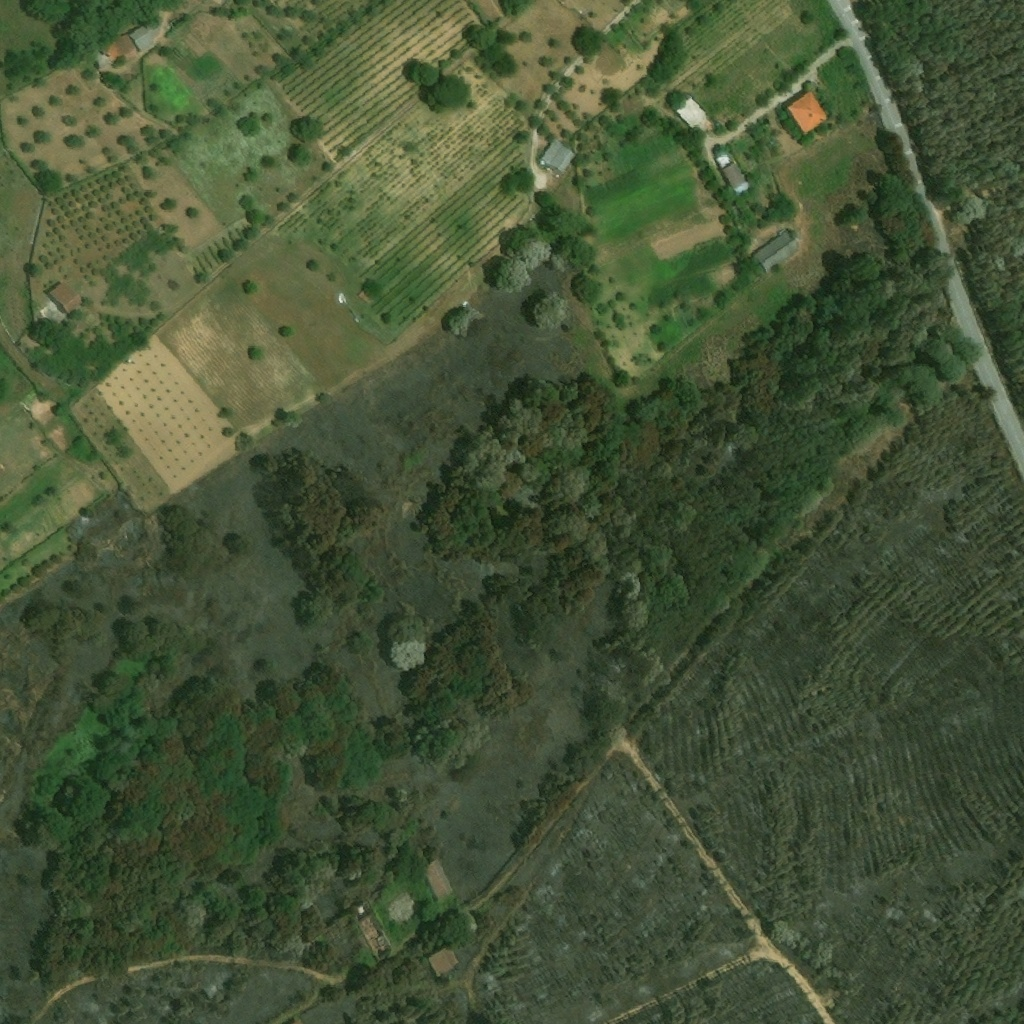0 no-damage: (786, 89, 831, 134), (752, 231, 799, 274), (353, 913, 394, 961), (714, 150, 751, 192), (674, 94, 711, 131), (542, 138, 578, 175), (101, 33, 140, 67), (421, 862, 451, 902), (48, 280, 84, 313), (425, 947, 459, 981), (129, 18, 163, 51)
